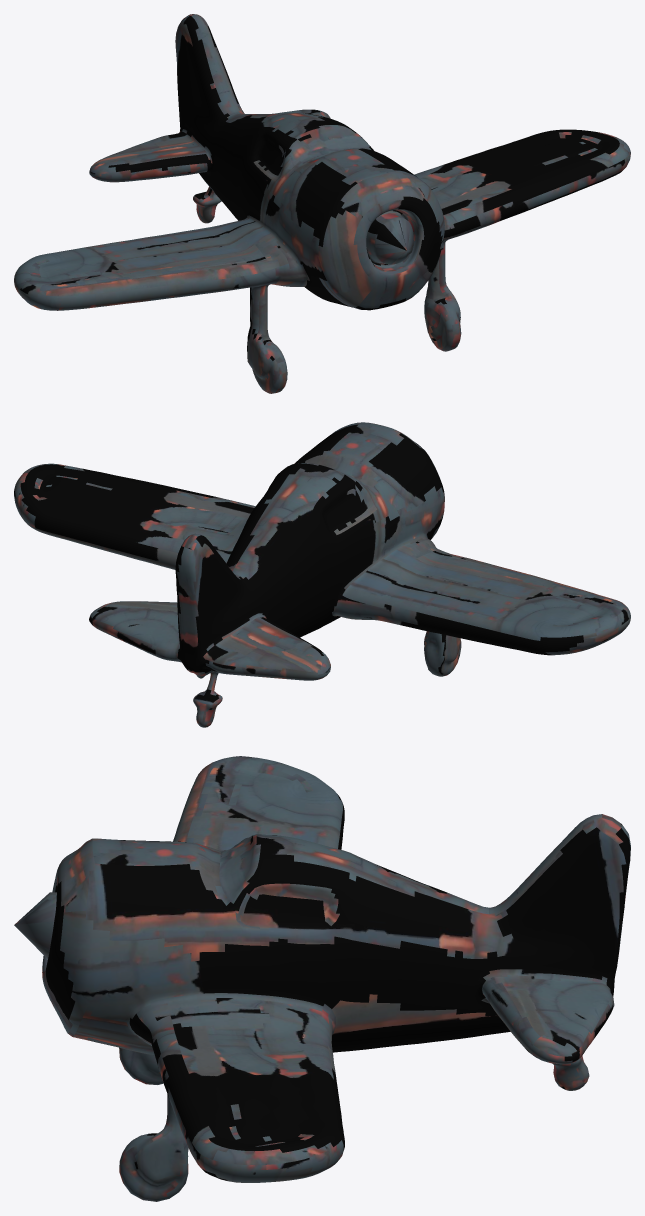
The picture shows the model from 3 angles, top to bottom: view 1: azimuth 30°, elevation 25°; view 2: azimuth 150°, elevation 25°; view 3: azimuth 270°, elevation 25°; orthographic projection. The views are drawn at different scales.
Visible parts, largest first — view 1: tripo_node_90bfda6e-2f1b-416e-88da-014c182687b1; view 2: tripo_node_90bfda6e-2f1b-416e-88da-014c182687b1; view 3: tripo_node_90bfda6e-2f1b-416e-88da-014c182687b1.
Boxes of the visible parts, left/top/right/bottom form: tripo_node_90bfda6e-2f1b-416e-88da-014c182687b1: left=14, top=14, right=630, bottom=393; tripo_node_90bfda6e-2f1b-416e-88da-014c182687b1: left=14, top=422, right=630, bottom=727; tripo_node_90bfda6e-2f1b-416e-88da-014c182687b1: left=14, top=756, right=630, bottom=1201.
Size of the model in its own units: 94.87 by 35.65 by 60.99.
